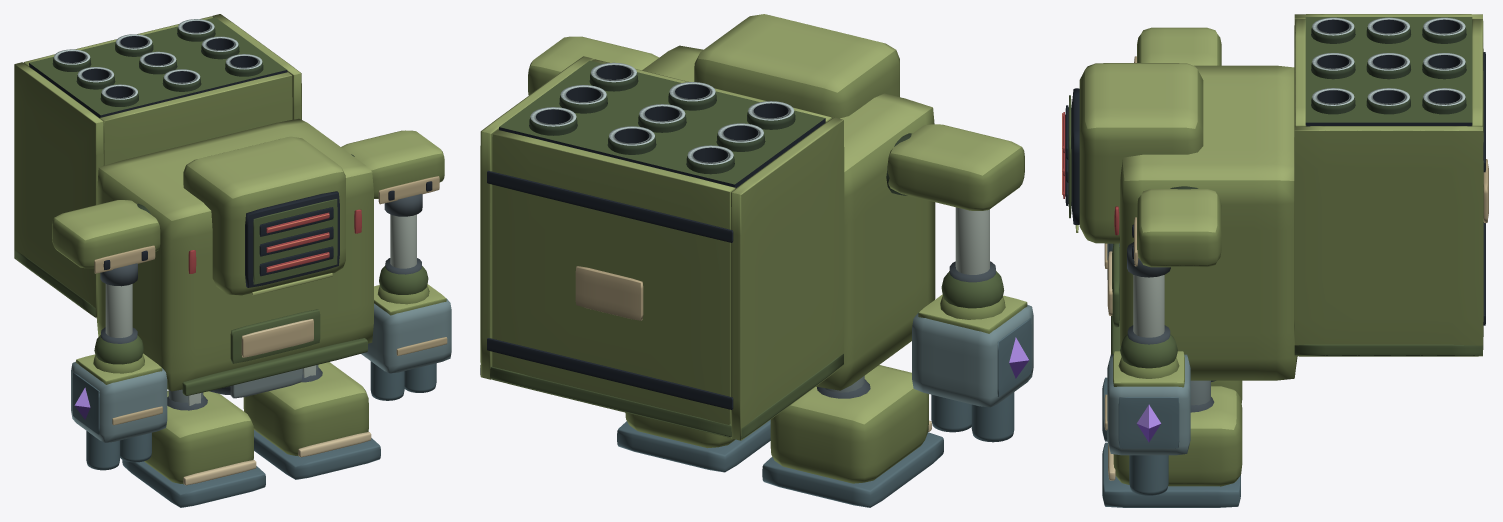
Rendered from military-robot.obj.
3 renders of one model, left to right at view 1: azimuth 30°, elevation 25°; view 2: azimuth 150°, elevation 25°; view 3: azimuth 270°, elevation 25°, orthographic. The views are drawn at different scales.
Parts seen in each view (by area): view 1: Torso_Rectangular_Armor, Back_Box_Side_L, Head_Armor, Back_Box_Front, Boot_Armor_R, Boot_Armor_L, Shoulder_Armor_L, Hand_Launcher_Casing_R, Hand_Launcher_Casing_L, Shoulder_Armor_R, Torso_Lower_Armor_Band, Head_Visor_Inset (+48 smaller); view 2: Back_Box_Rear, Back_Box_Side_L, Torso_Rectangular_Armor, Head_Armor, Boot_Armor_L, Shoulder_Armor_L, Hand_Launcher_Casing_L, Back_Box_Base, Boot_Sole_L, Back_Box_Side_R, Boot_Sole_R, Back_Box_Rear_Strap_1 (+29 smaller); view 3: Back_Box_Side_R, Torso_Rectangular_Armor, Head_Armor, Shoulder_Armor_R, Boot_Armor_R, Boot_Sole_R, Hand_Launcher_Casing_R, Shoulder_Armor_L, Hand_Dorsal_Plate_R, Back_Box_Base, Arm_Piston_R, Hand_Rocket_Tube_2_R (+29 smaller).
Boxes of the visible parts, bbox=[...] form: Torso_Rectangular_Armor: bbox=[96, 118, 373, 391]; Back_Box_Side_L: bbox=[14, 62, 104, 317]; Head_Armor: bbox=[183, 136, 345, 295]; Back_Box_Front: bbox=[100, 72, 292, 165]; Boot_Armor_R: bbox=[243, 362, 368, 456]; Boot_Armor_L: bbox=[144, 390, 253, 484]; Shoulder_Armor_L: bbox=[52, 200, 160, 268]; Hand_Launcher_Casing_R: bbox=[361, 298, 451, 373]; Hand_Launcher_Casing_L: bbox=[71, 361, 167, 442]; Shoulder_Armor_R: bbox=[341, 130, 444, 198]; Torso_Lower_Armor_Band: bbox=[182, 338, 367, 395]; Head_Visor_Inset: bbox=[253, 198, 337, 284]; Back_Box_Rear: bbox=[492, 130, 735, 437]; Back_Box_Side_L: bbox=[730, 117, 844, 440]; Torso_Rectangular_Armor: bbox=[642, 45, 935, 390]; Head_Armor: bbox=[694, 14, 899, 118]; Boot_Armor_L: bbox=[770, 365, 928, 483]; Shoulder_Armor_L: bbox=[887, 124, 1024, 210]; Hand_Launcher_Casing_L: bbox=[912, 304, 1033, 407]; Back_Box_Base: bbox=[480, 354, 843, 438]; Boot_Sole_L: bbox=[762, 432, 943, 507]; Back_Box_Side_R: bbox=[480, 56, 593, 379]; Boot_Sole_R: bbox=[617, 420, 770, 472]; Back_Box_Rear_Strap_1: bbox=[487, 338, 733, 409]; Back_Box_Side_R: bbox=[1294, 126, 1483, 356]; Torso_Rectangular_Armor: bbox=[1120, 65, 1297, 380]; Head_Armor: bbox=[1079, 63, 1203, 243]; Shoulder_Armor_R: bbox=[1137, 189, 1221, 267]; Boot_Armor_R: bbox=[1113, 386, 1242, 486]; Boot_Sole_R: bbox=[1102, 442, 1240, 507]; Hand_Launcher_Casing_R: bbox=[1107, 354, 1190, 455]; Shoulder_Armor_L: bbox=[1137, 27, 1221, 65]; Hand_Dorsal_Plate_R: bbox=[1118, 397, 1179, 448]; Back_Box_Base: bbox=[1294, 326, 1483, 356]; Arm_Piston_R: bbox=[1133, 275, 1164, 337]; Hand_Rocket_Tube_2_R: bbox=[1129, 455, 1168, 495].
Bounding box in the file's own units: 3.97 × 3.42 × 3.38.
